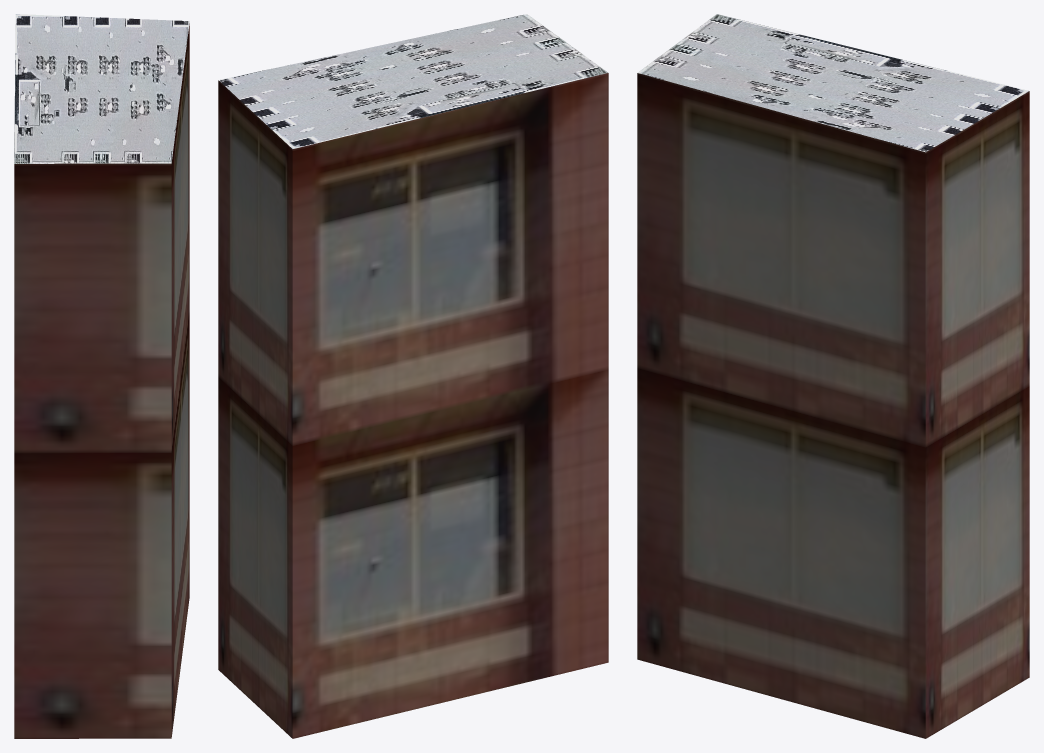
Rendered from ResTex__2461.fbx.
The picture shows the model from 3 angles, left to right: view 1: azimuth 30°, elevation 25°; view 2: azimuth 150°, elevation 25°; view 3: azimuth 270°, elevation 25°; orthographic projection. The views are drawn at different scales.
Visible parts, largest first — view 1: CityEngineMaterial_13_m, CityEngineMaterial_4_m; view 2: CityEngineMaterial_13_m, CityEngineMaterial_4_m; view 3: CityEngineMaterial_13_m, CityEngineMaterial_4_m.
Boxes of the visible parts, x1,y1,x2,y2 form: CityEngineMaterial_13_m: (14,23,189,738); CityEngineMaterial_4_m: (14,14,189,163); CityEngineMaterial_13_m: (218,73,608,738); CityEngineMaterial_4_m: (218,14,608,148); CityEngineMaterial_13_m: (637,73,1029,738); CityEngineMaterial_4_m: (638,14,1028,152).
Size of the model in its own units: 3.04 by 6 by 3.64.
2 materials, 2 textured.
